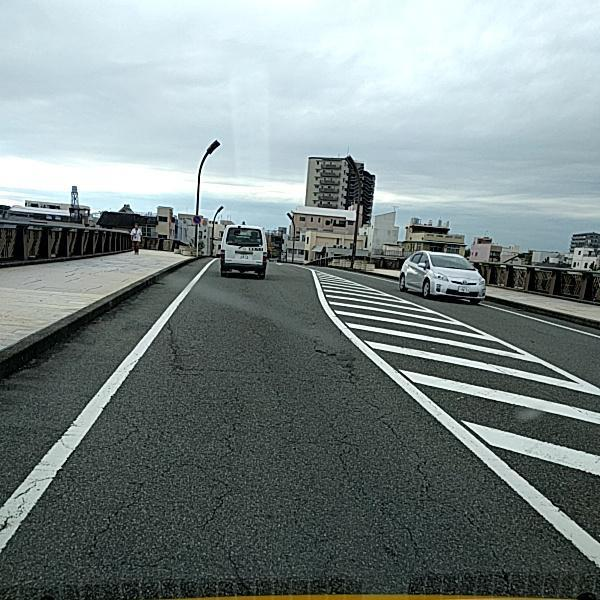D00: (374, 416, 445, 505), (307, 337, 360, 388), (161, 312, 187, 375)
D20: (78, 315, 505, 596)
